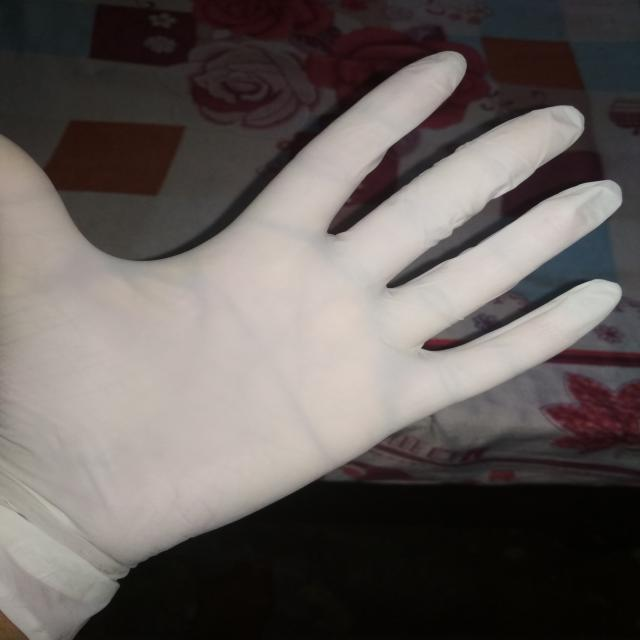glove_hand: (4, 46, 628, 636)
